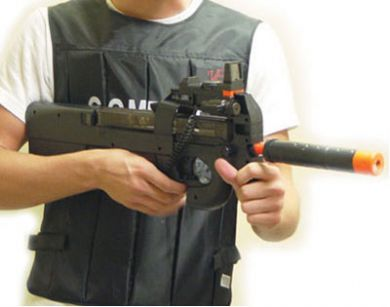rifle: (79, 94, 383, 172)
rifle in hand: (18, 95, 387, 248)
